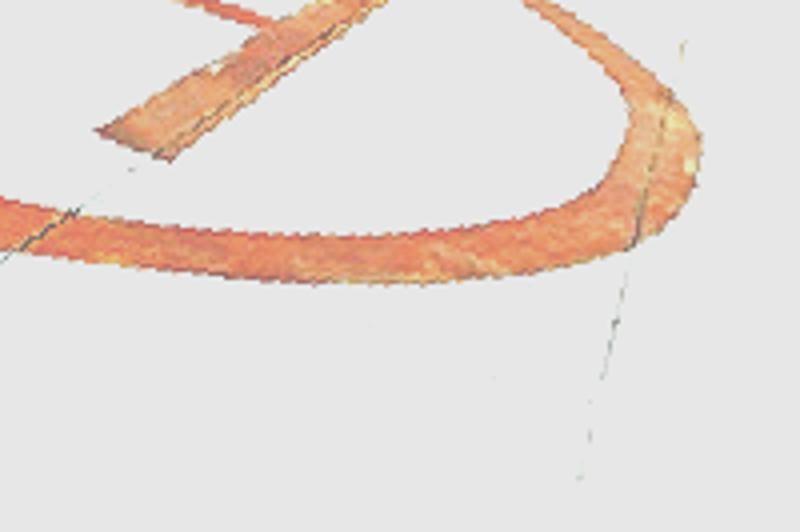Apron: (1, 1, 705, 293)
